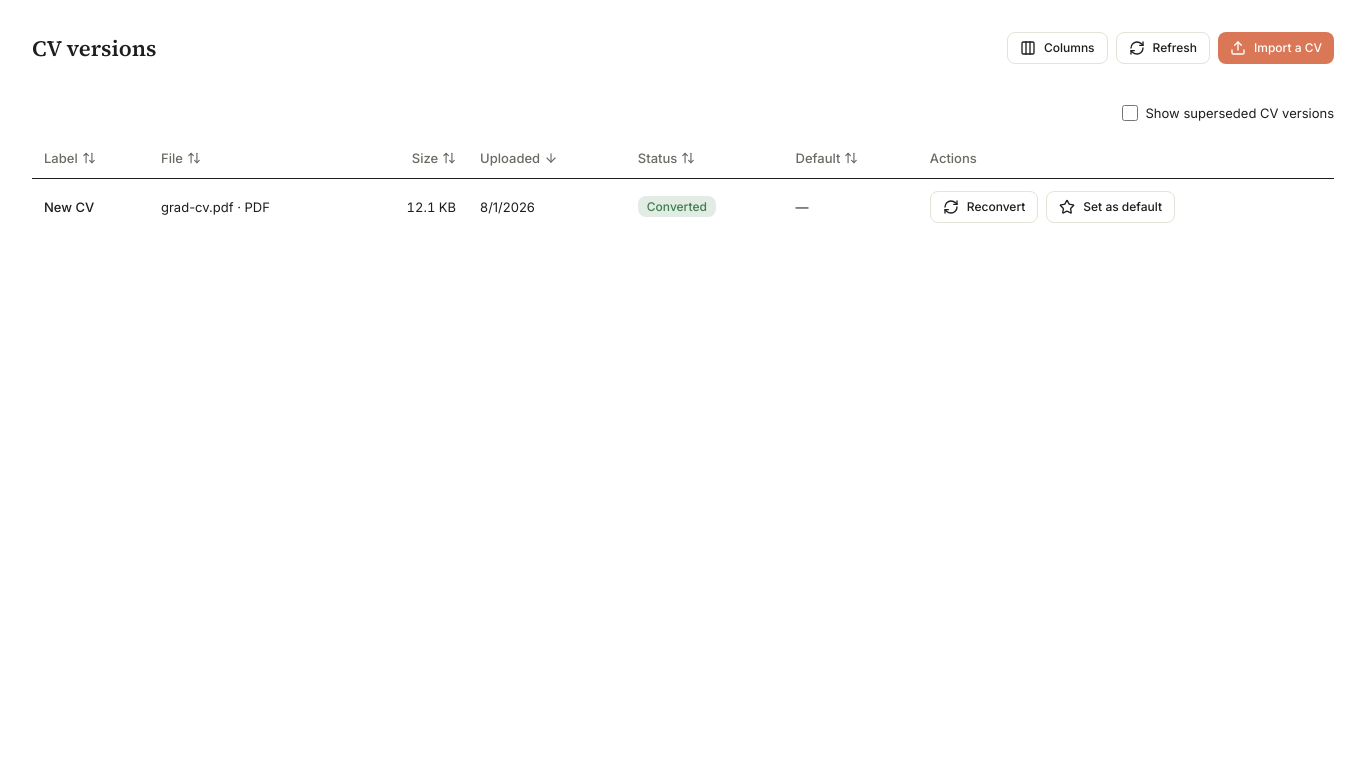
it: CvVersionsPage — list › hides Set as default, Replace, Modifier, and Delete (but keeps Reconvert) in the panel for a superseded CV
The width and height of the screenshot is (1366, 768).
Click the checkbox labelled "Show superseded CV versions".
click(1130, 113)  # box [1122,105,1138,121]
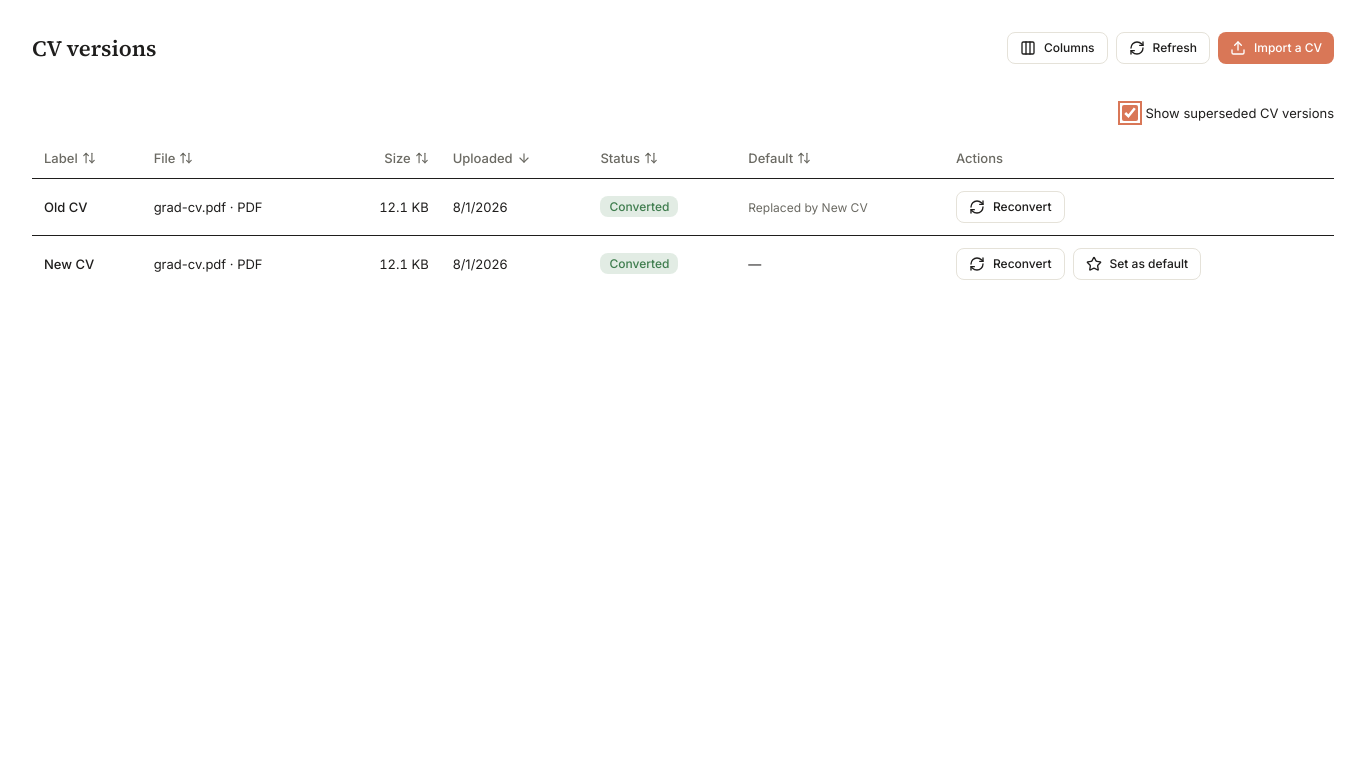
Click the text "Old CV".
click(87, 207)  # box [32,178,142,235]
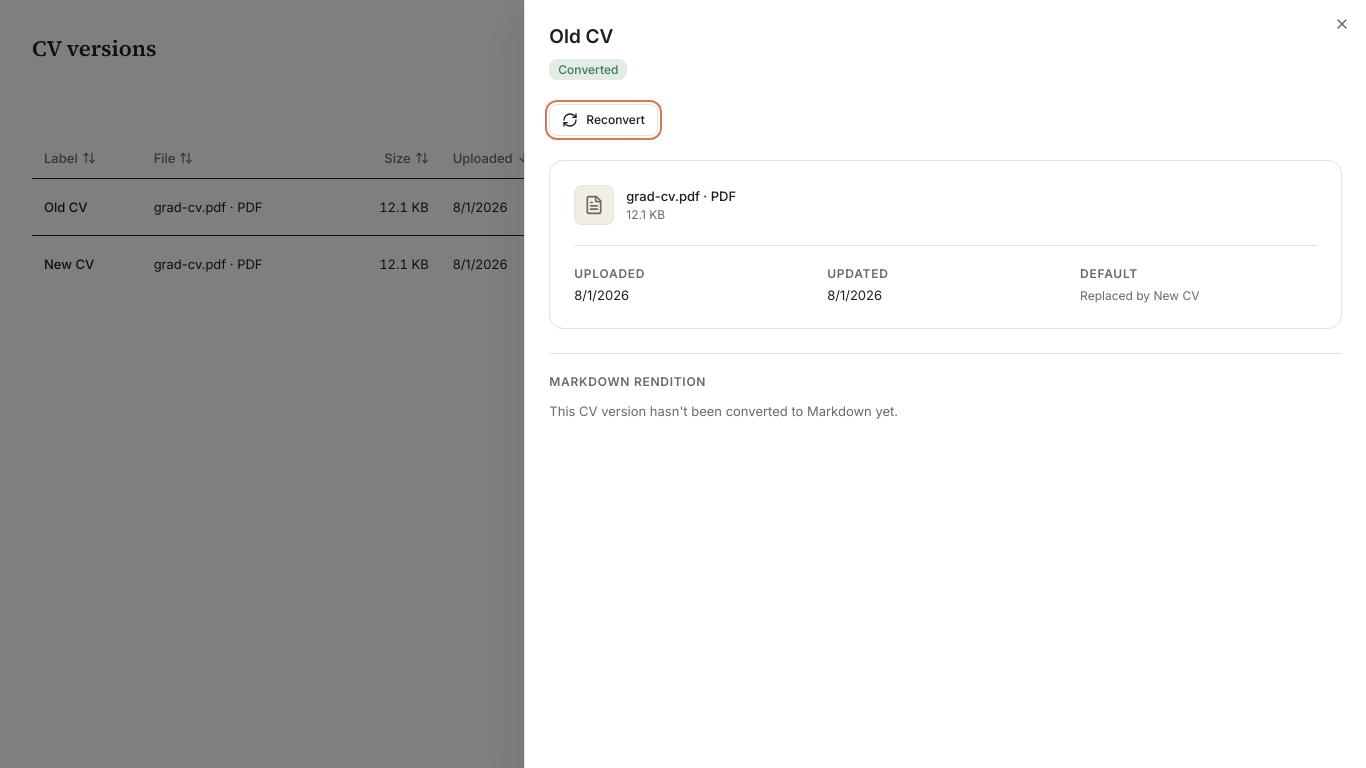
Check: the button "Reconvert" is enabled, box [549,104,658,136]
Check: the text "Replaced by New CV" is shown, box [1080,288,1200,303]
